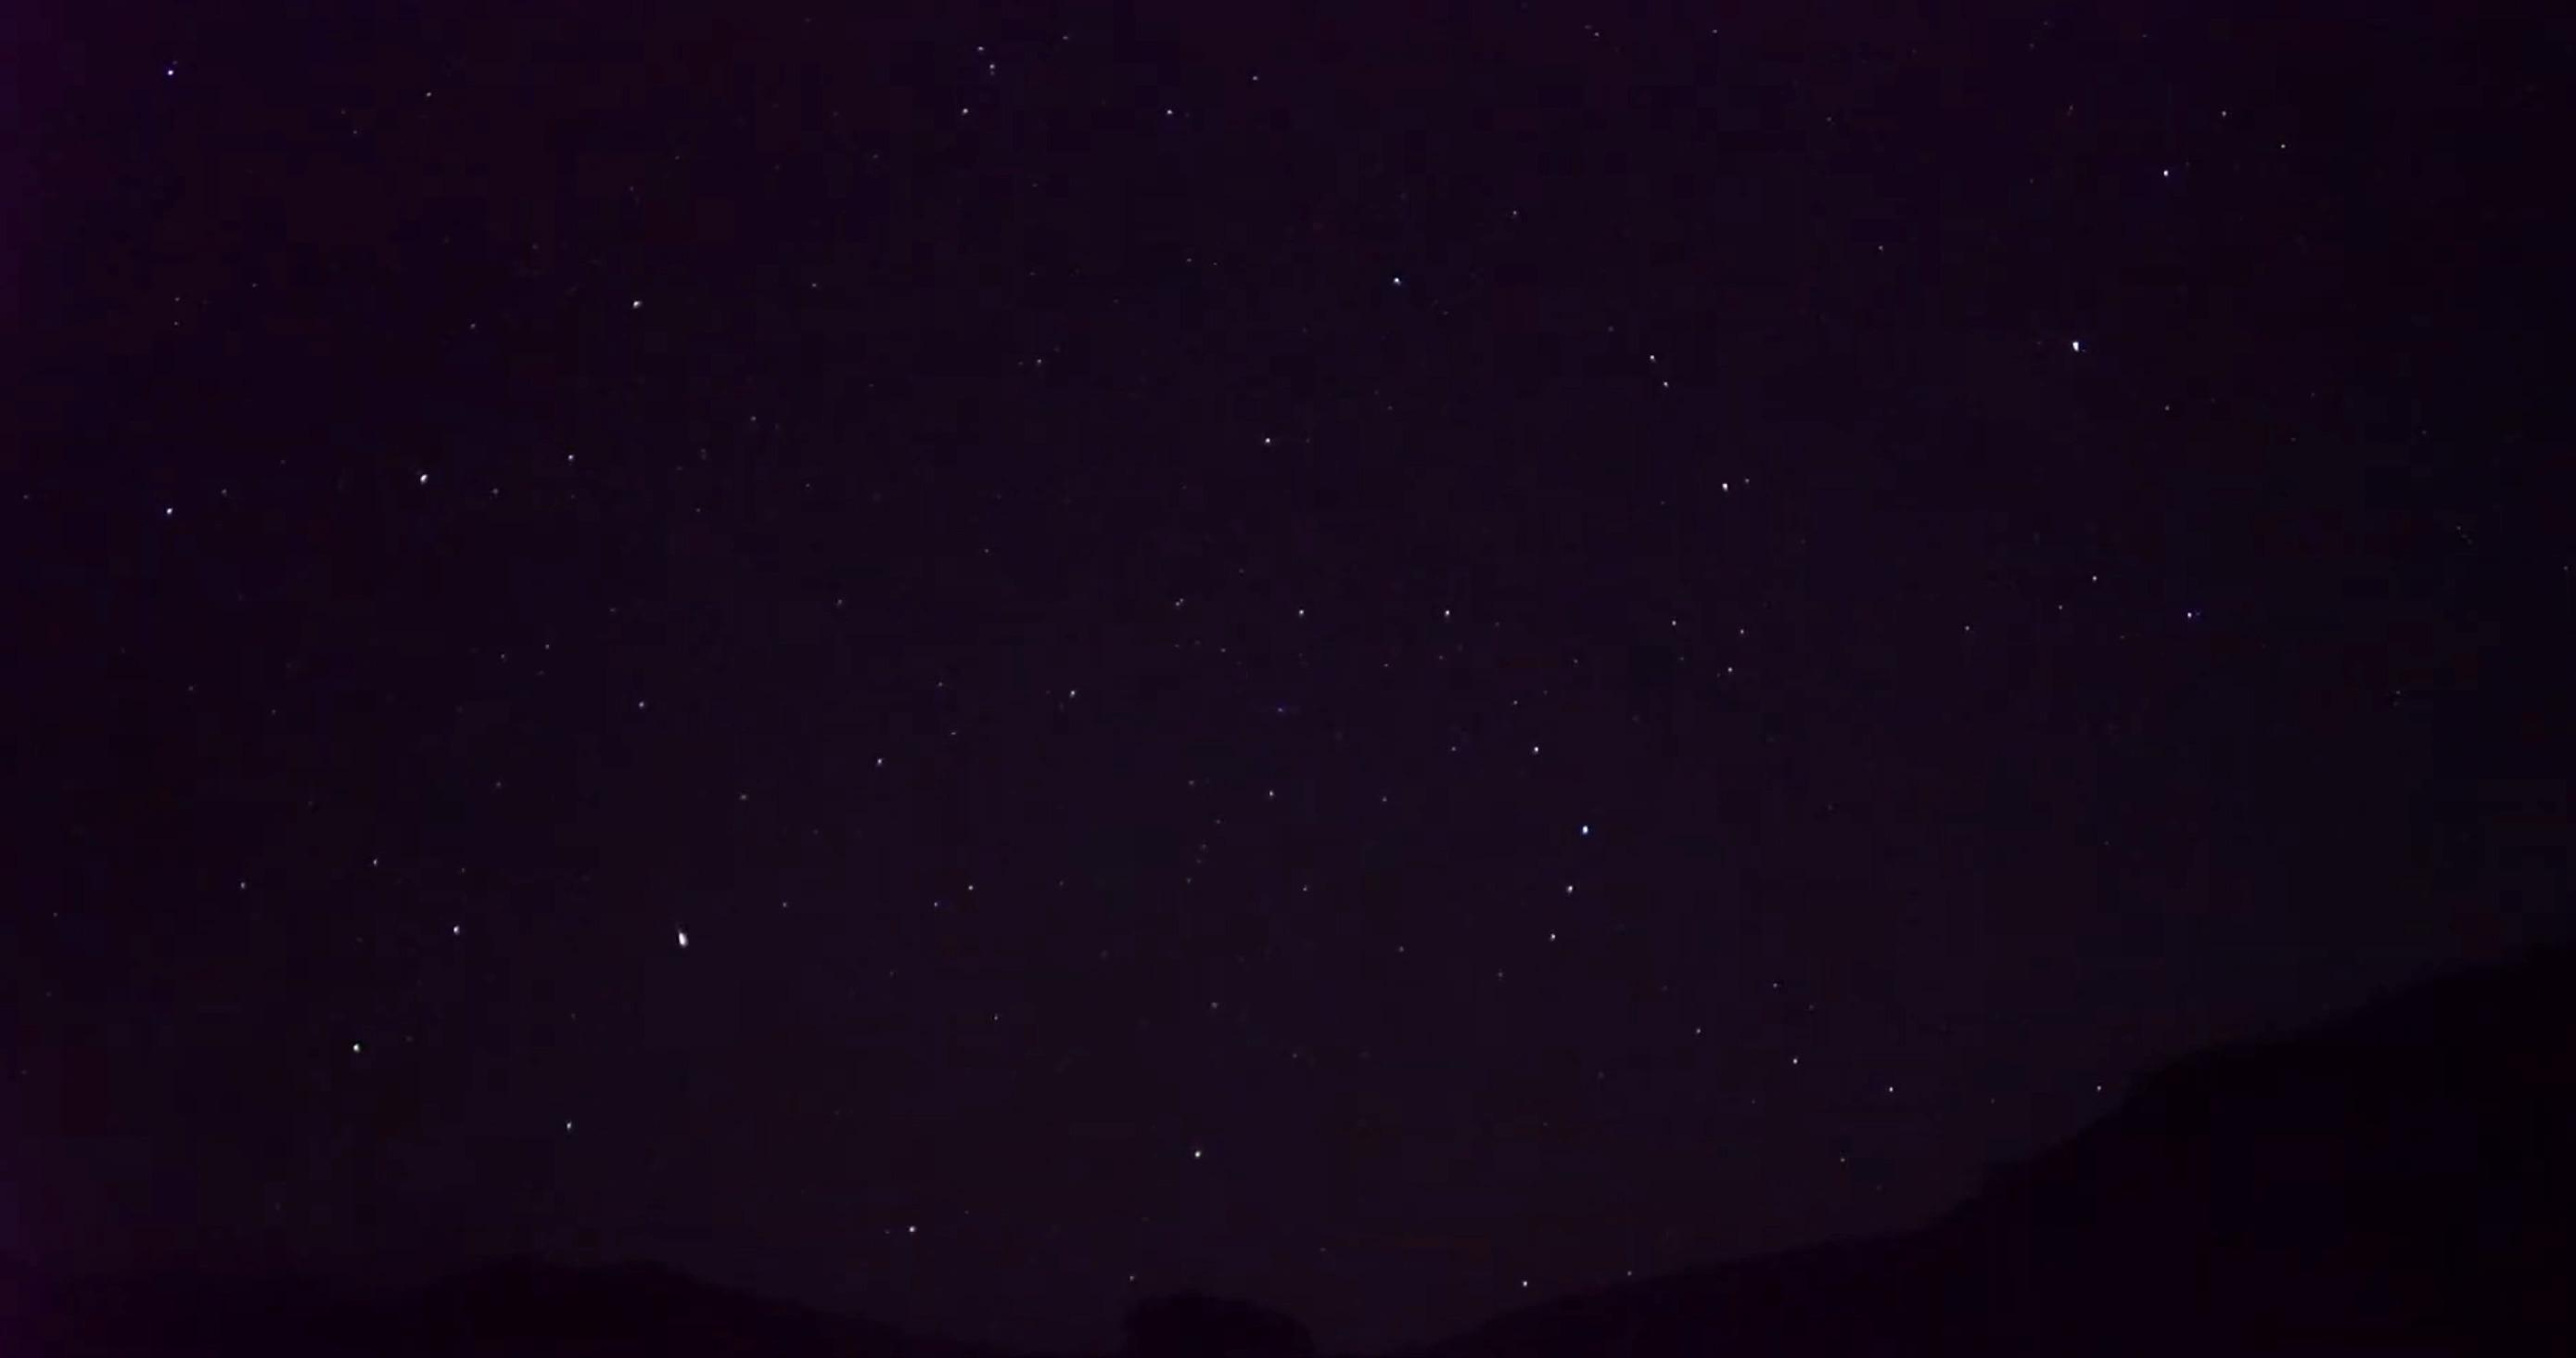meteorite: (642, 905, 734, 968)
